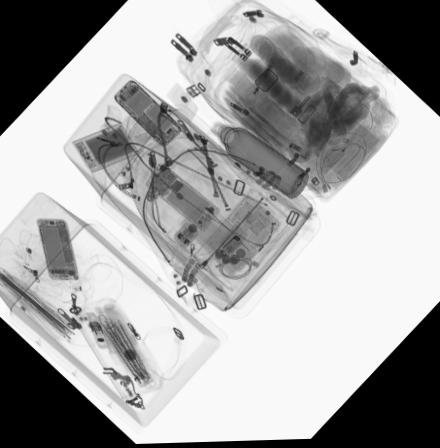Powerbank: (67, 122, 138, 174)
